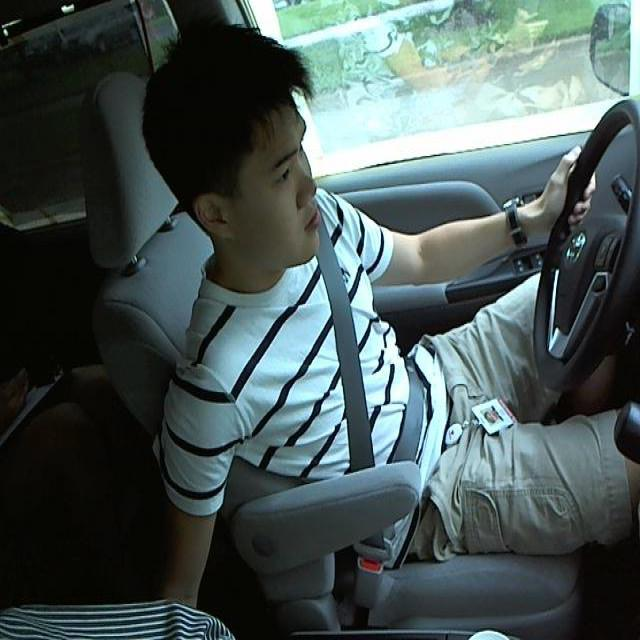seatbelt: (309, 262, 450, 482)
